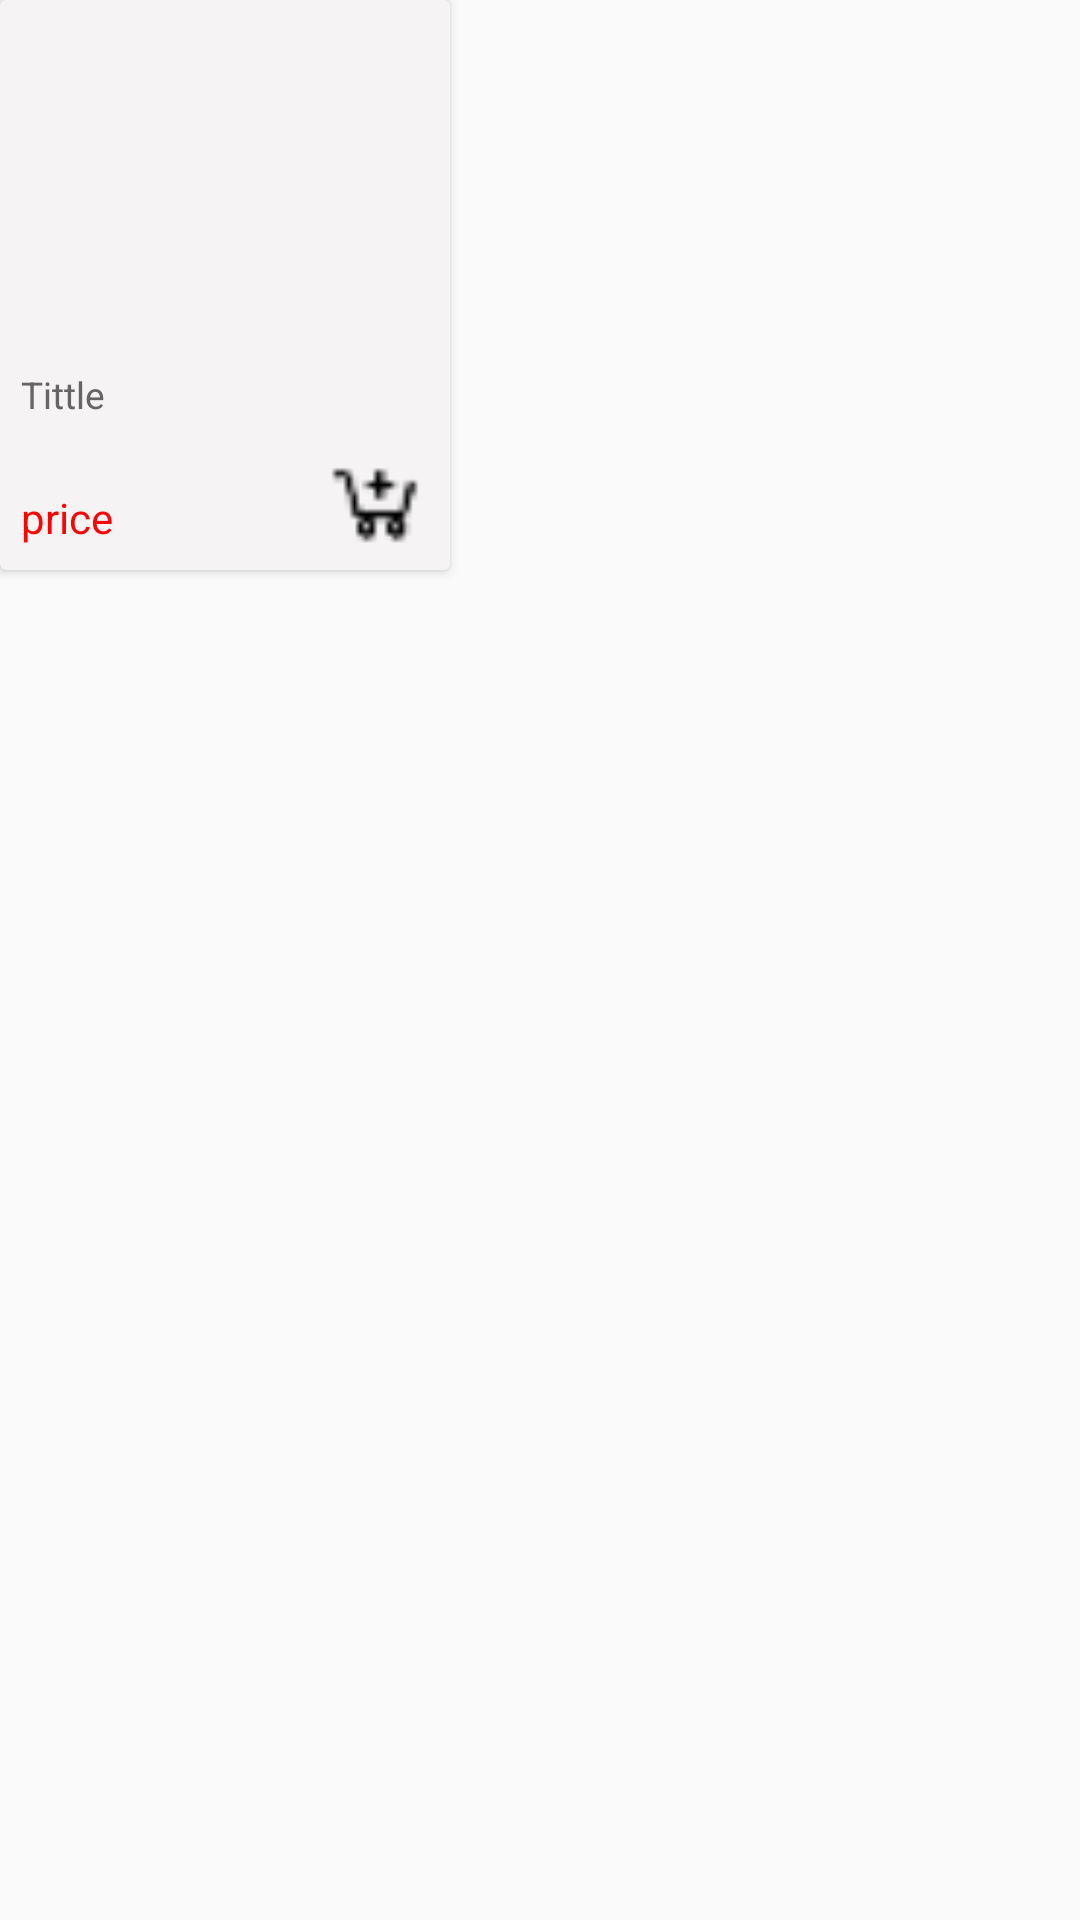

Named icons in this screenshot (1080px x 1920px) and their centers, (x=x, y=y):
model cart: (x=375, y=505)
